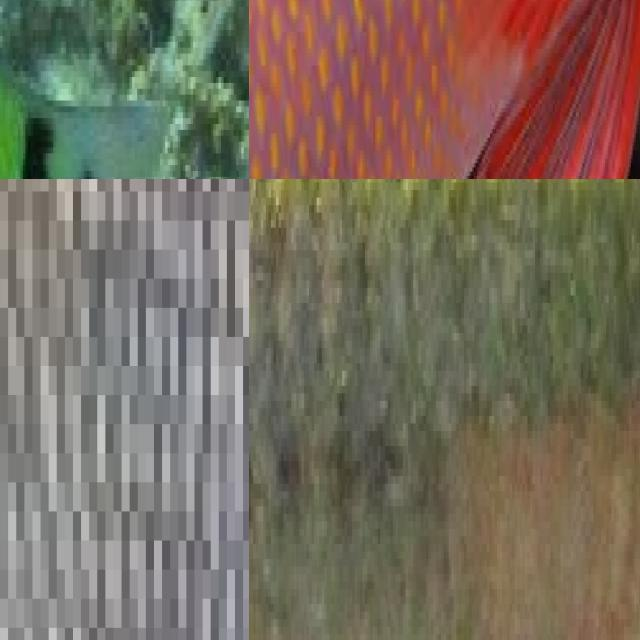fish: (249, 179, 640, 640), (0, 179, 249, 640), (249, 0, 640, 179), (0, 0, 249, 179)
